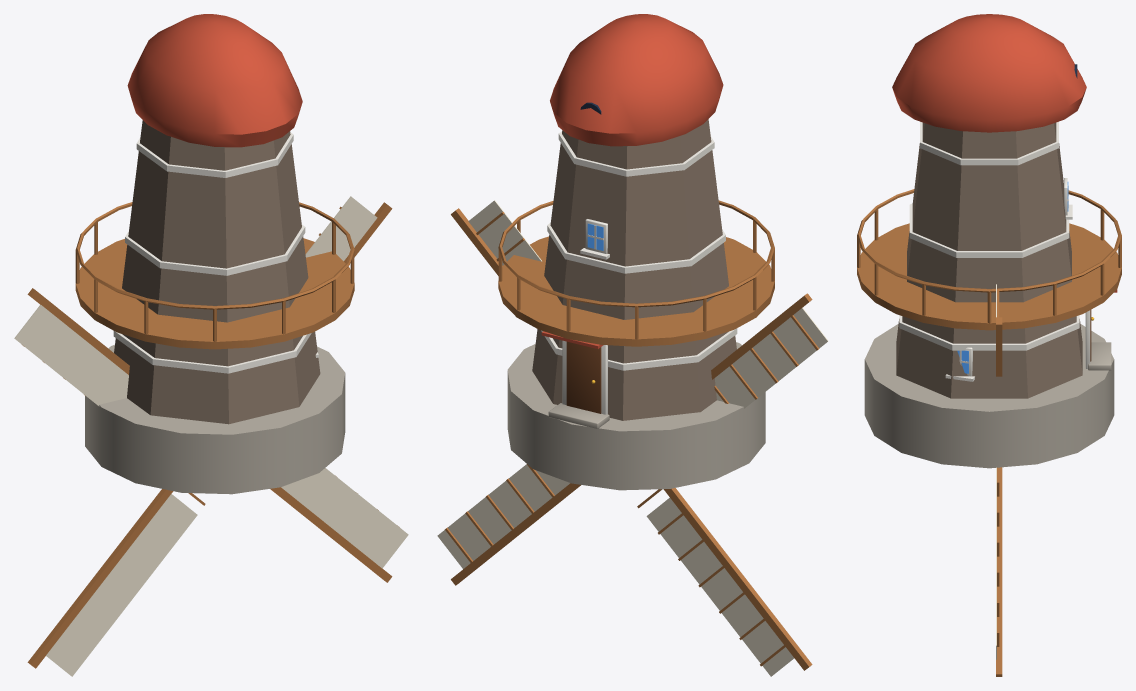
File: windmuehle.glb
The picture shows the model from 3 angles, left to right: view 1: azimuth 30°, elevation 25°; view 2: azimuth 150°, elevation 25°; view 3: azimuth 270°, elevation 25°; orthographic projection. The views are drawn at different scales.
Visible parts, largest first — view 1: windmuehle_lod0, Sails; view 2: windmuehle_lod0, Sails; view 3: windmuehle_lod0, Sails.
Part boxes in pixels (x1,y1,x2,y2): windmuehle_lod0: [75, 14, 354, 494]; Sails: [14, 196, 408, 676]; windmuehle_lod0: [498, 14, 774, 490]; Sails: [437, 200, 828, 676]; windmuehle_lod0: [857, 14, 1121, 468]; Sails: [996, 284, 1002, 676].
Size of what is drawn, in the model's own units: 11.09 by 16.75 by 6.8.
